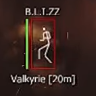hacks_3: (10, 7, 76, 85)
